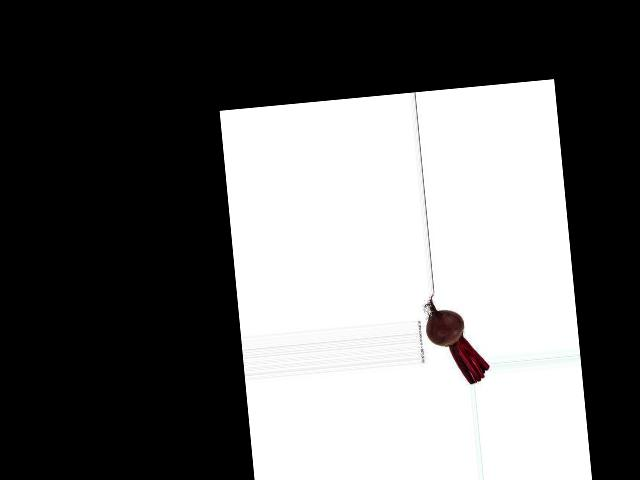beet: (423, 290, 490, 388)
